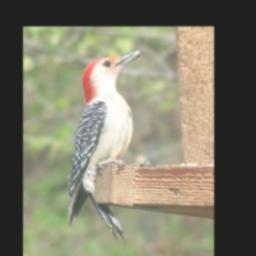Woodpecker: (69, 47, 146, 243)
